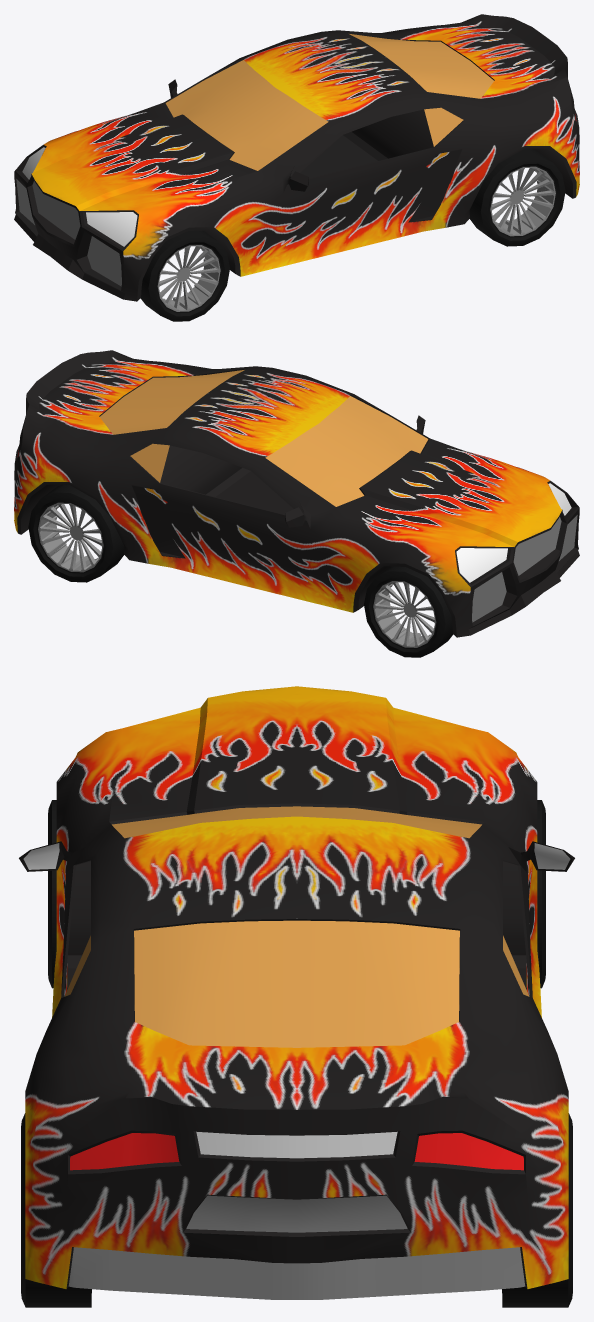
Rendered from car.hotwheels.torquetwister.fbx.
3 views of the same model, one above another, from view 1: azimuth 30°, elevation 25°; view 2: azimuth 150°, elevation 25°; view 3: azimuth 270°, elevation 25° (orthographic). The views are drawn at different scales.
Parts seen in each view (by area): view 1: body, wheels.002; view 2: body, wheels.002; view 3: body, wheels.002.
Part boxes in pixels (box(x1,y1,x2,y2)): body: box(14, 14, 579, 301); wheels.002: box(141, 148, 565, 321); body: box(14, 350, 579, 637); wheels.002: box(28, 484, 452, 657); body: box(19, 686, 574, 1299); wheels.002: box(21, 800, 572, 1307).
Size of the model in its own units: 285 by 86.3 by 137.
2 materials, 1 textured.
